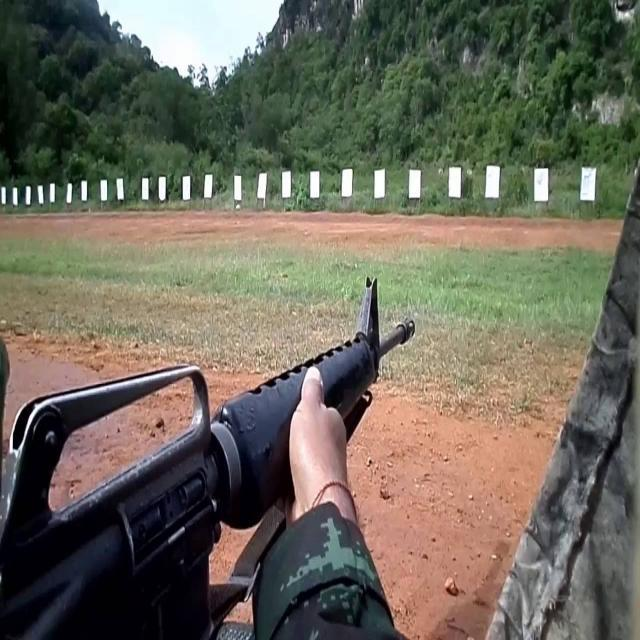m16: (2, 263, 424, 640)
